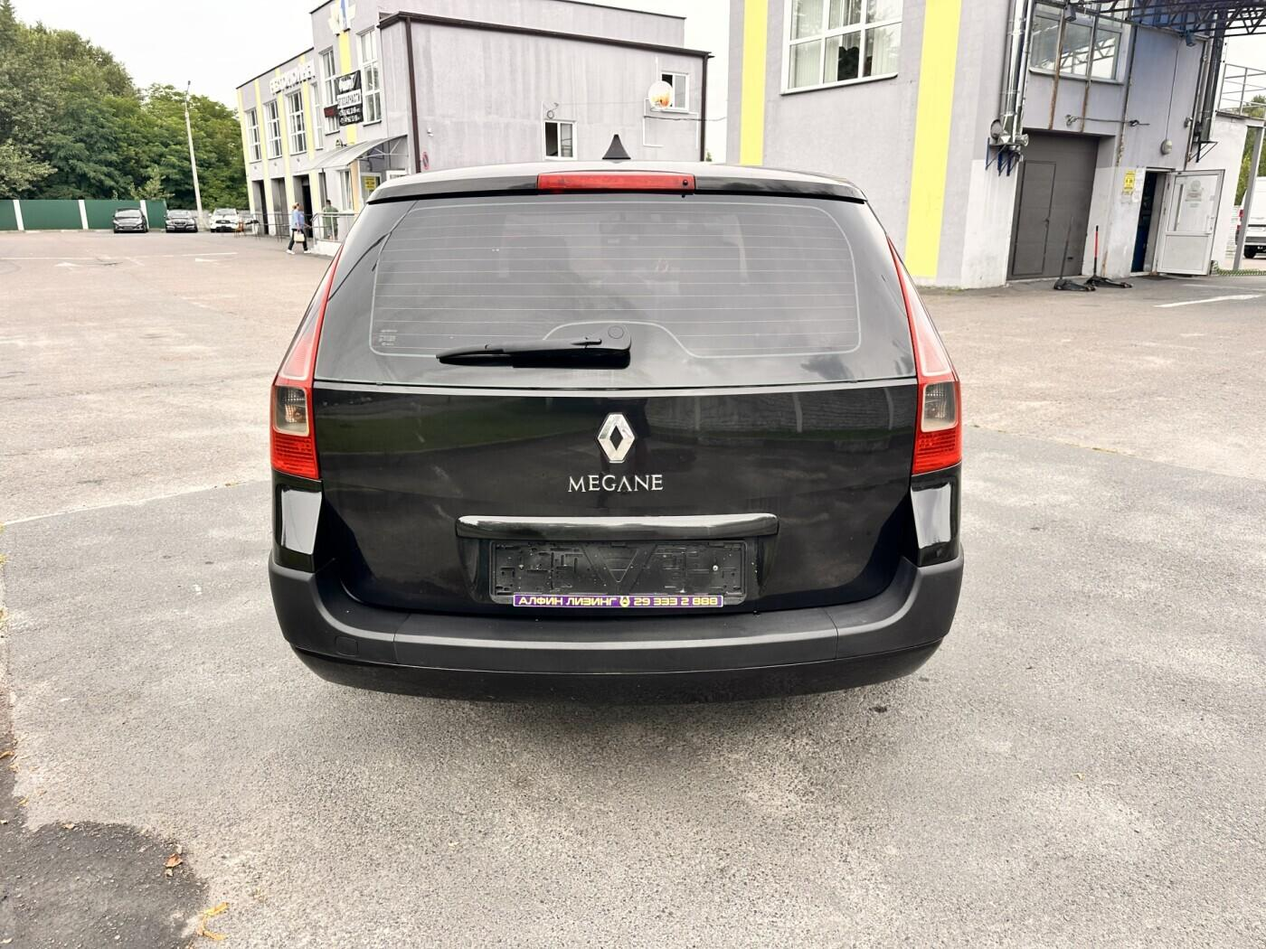Megane_2005-2009: (252, 161, 983, 714)
